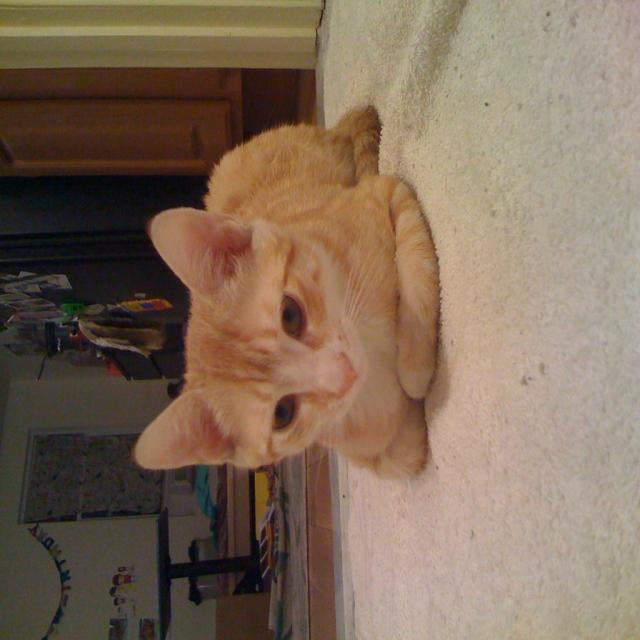Cat: (128, 94, 441, 484)
